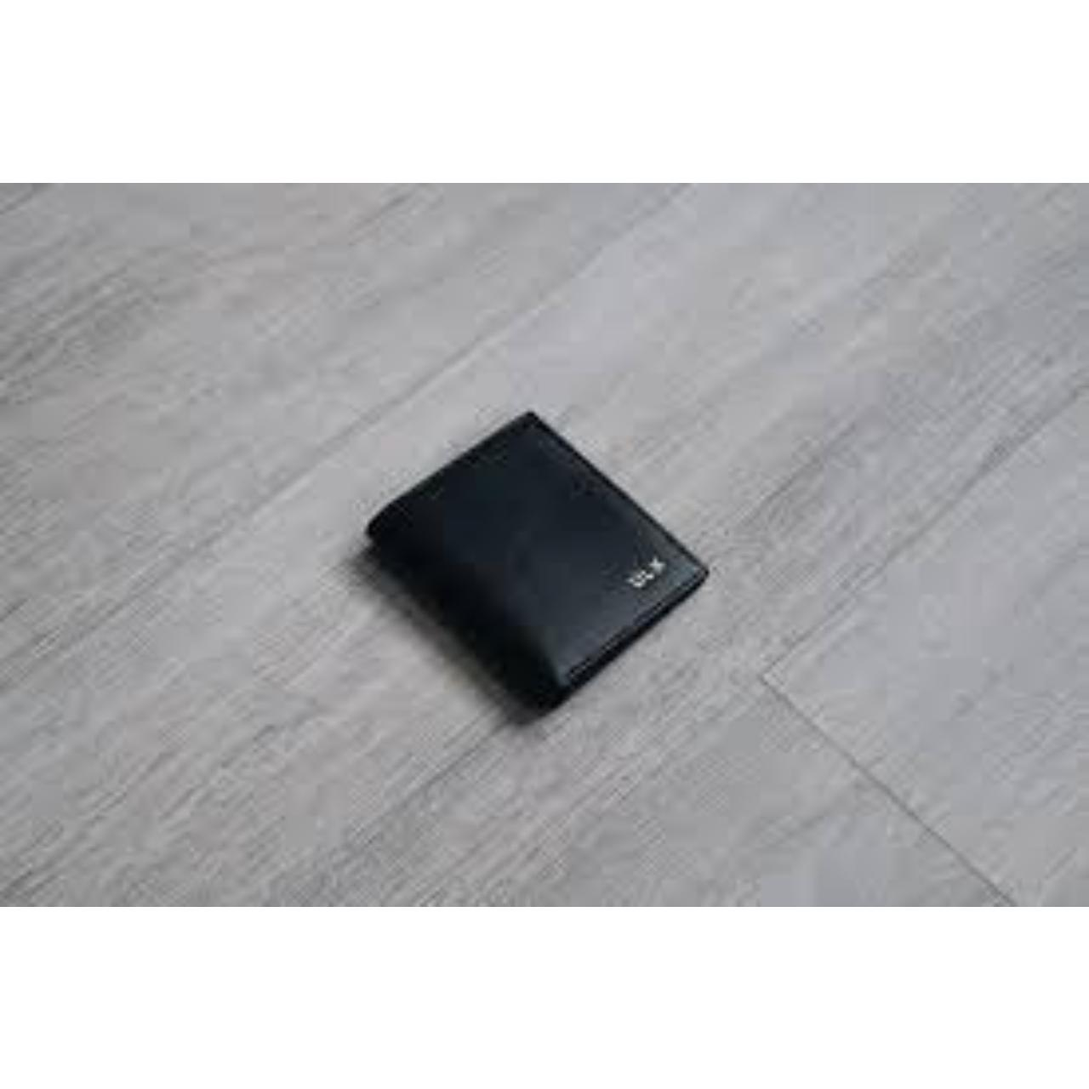wallet: (347, 412, 798, 716)
